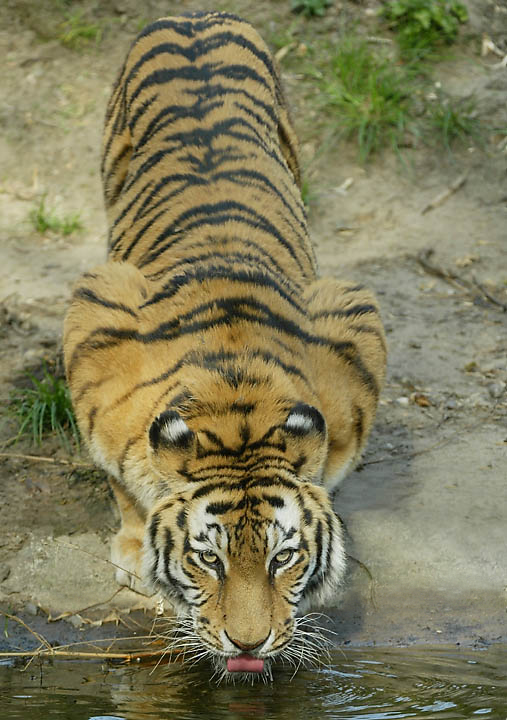Tigre: (59, 14, 403, 700)
